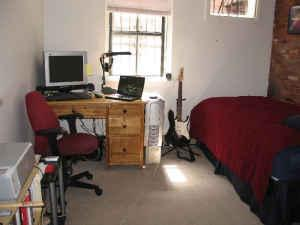Cama: (194, 98, 298, 223)
Ventana: (110, 7, 169, 77)
